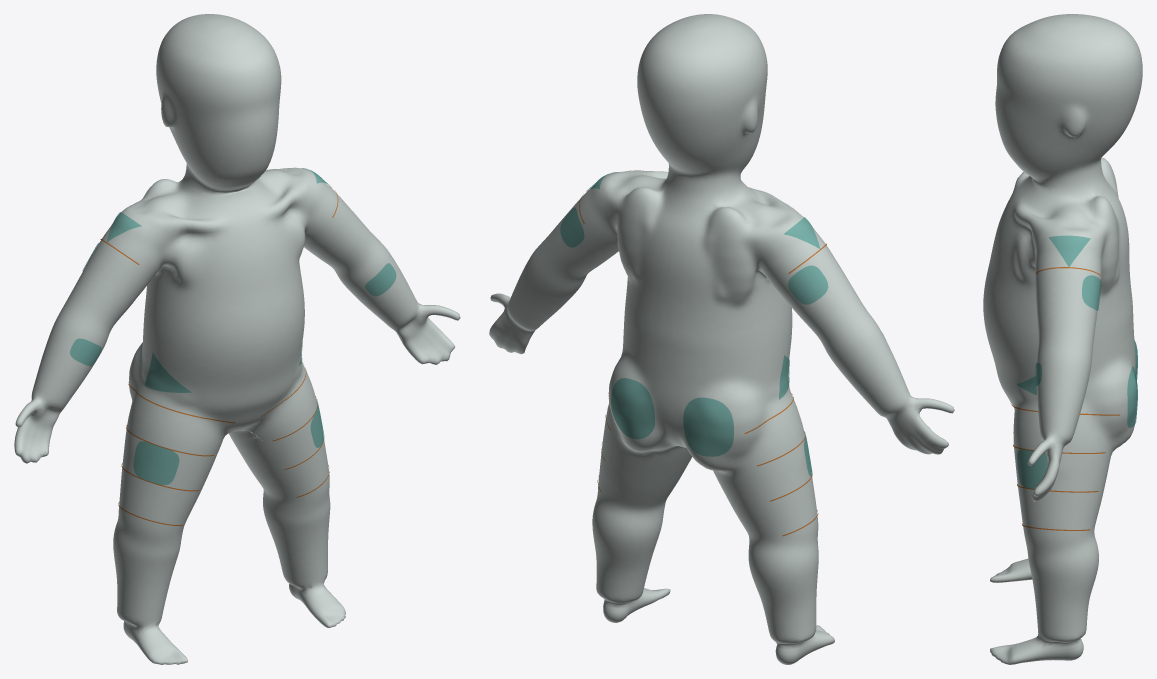
Rendered from infant.glb.
3 views of the same model, side by side, from view 1: azimuth 30°, elevation 25°; view 2: azimuth 150°, elevation 25°; view 3: azimuth 270°, elevation 25° (orthographic). The views are drawn at different scales.
Visible parts, largest first — view 1: Infant_Body, Infant_Zone_VastusLateralis_R, Infant_Zone_Ventrogluteal_R; view 2: Infant_Body, Infant_Zone_Buttock_R, Infant_Zone_Buttock_L, Infant_Zone_Triceps_R, Infant_Zone_Triceps_L; view 3: Infant_Body, Infant_Zone_VastusLateralis_L, Infant_Zone_Deltoid_L, Infant_Zone_Buttock_L, Infant_Zone_Triceps_L, Infant_Guide_ThighThirds_L.
Part boxes in pixels (bbox=[...]): Infant_Body: bbox=[14, 14, 460, 664]; Infant_Zone_VastusLateralis_R: bbox=[133, 441, 179, 485]; Infant_Zone_Ventrogluteal_R: bbox=[144, 353, 191, 392]; Infant_Body: bbox=[489, 14, 954, 664]; Infant_Zone_Buttock_R: bbox=[683, 397, 733, 456]; Infant_Zone_Buttock_L: bbox=[611, 378, 654, 439]; Infant_Zone_Triceps_R: bbox=[788, 265, 828, 304]; Infant_Zone_Triceps_L: bbox=[560, 207, 584, 247]; Infant_Body: bbox=[983, 14, 1142, 664]; Infant_Zone_VastusLateralis_L: bbox=[1017, 449, 1047, 489]; Infant_Zone_Deltoid_L: bbox=[1049, 235, 1090, 266]; Infant_Zone_Buttock_L: bbox=[1127, 366, 1137, 427]; Infant_Zone_Triceps_L: bbox=[1082, 275, 1101, 310]; Infant_Guide_ThighThirds_L: bbox=[1010, 403, 1119, 530].
Size of the model in its own units: 0.5222 by 0.6672 by 0.1612.
